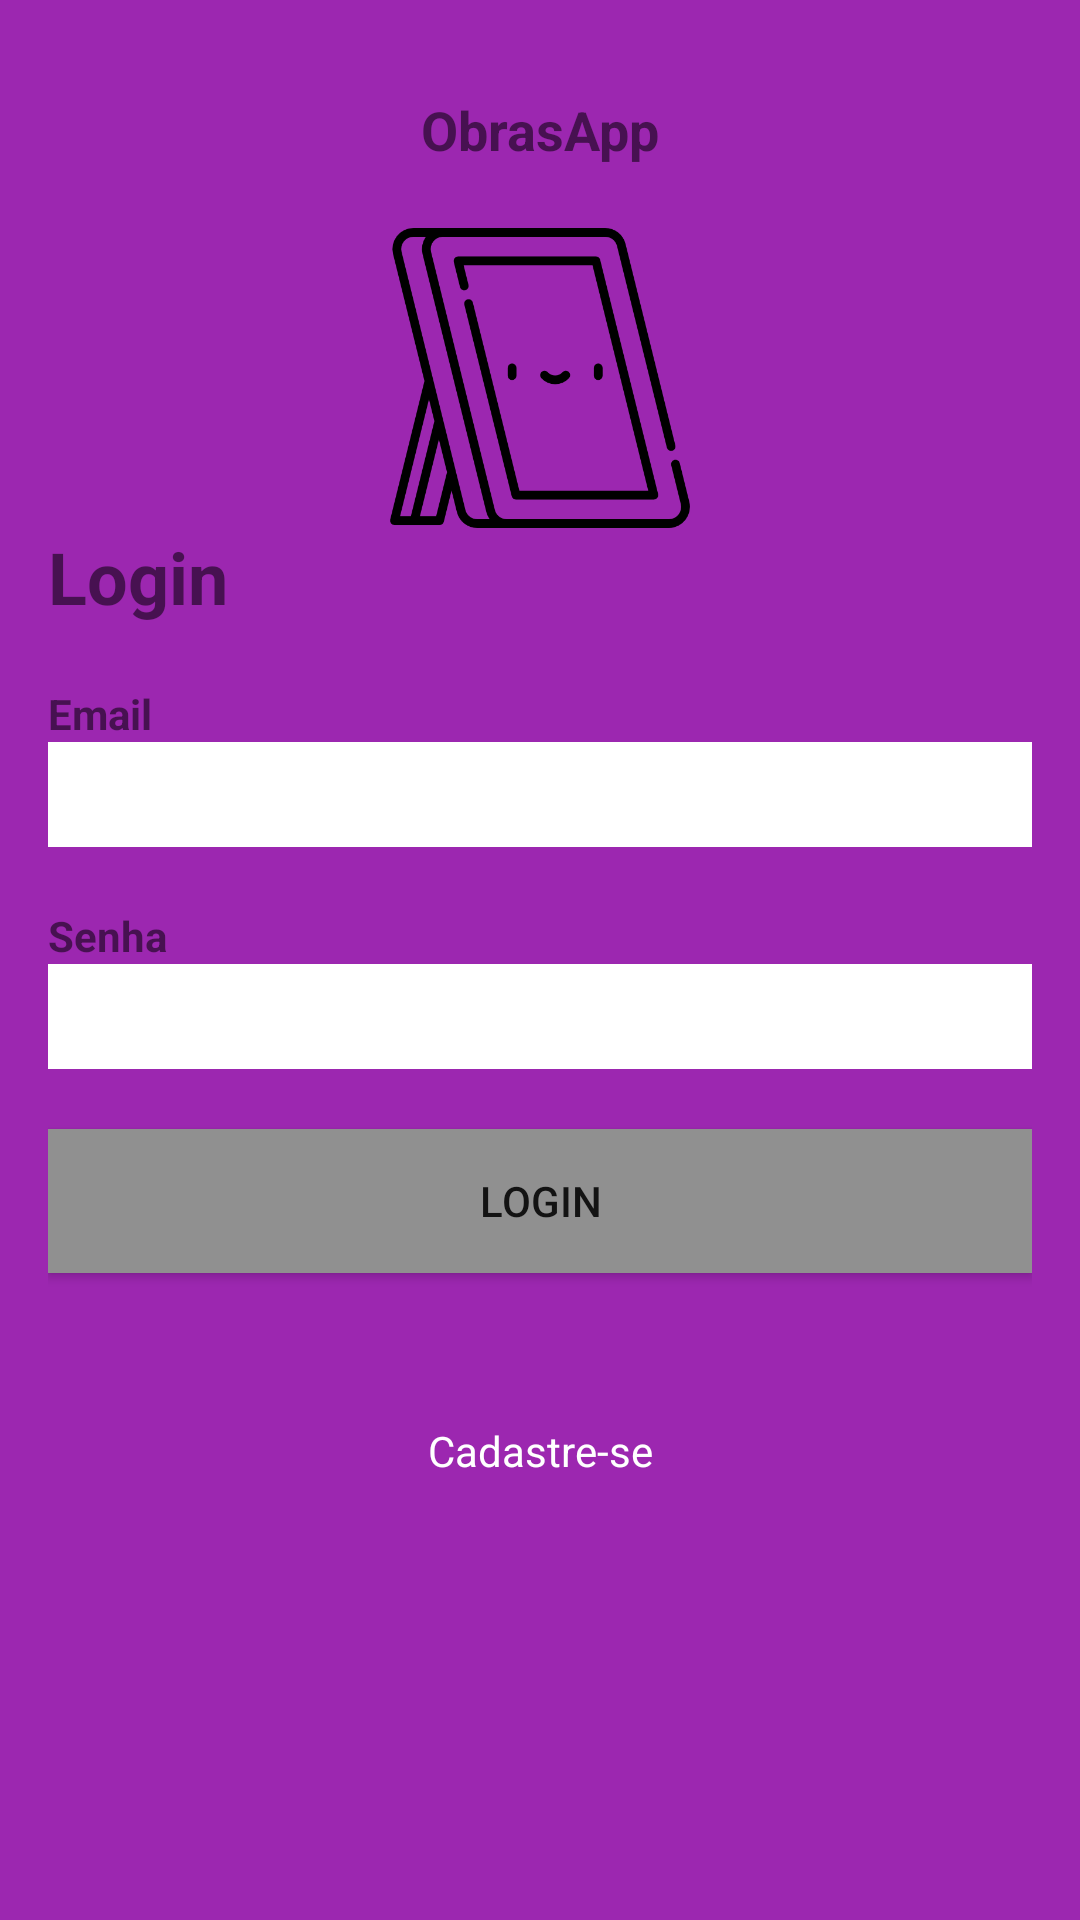

Named icons in this screenshot (1080*1920) and their centers, (x=x, y=y):
quadro: (x=540, y=378)
